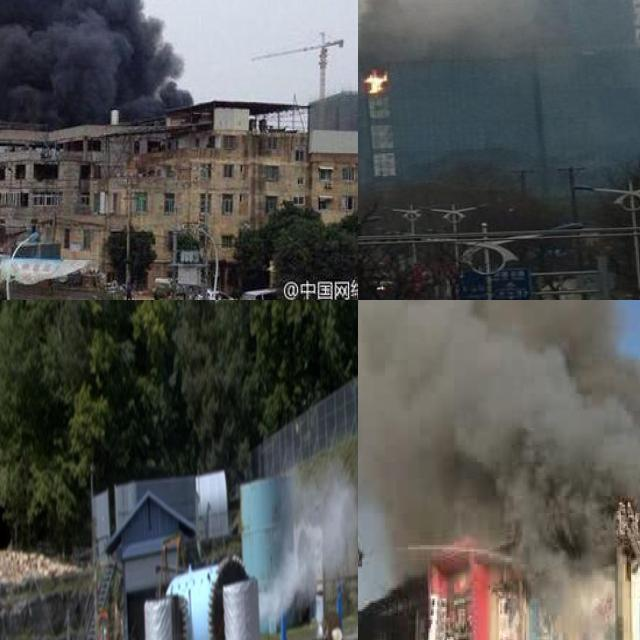fire: (362, 68, 388, 94)
smoke: (358, 300, 640, 573), (0, 0, 194, 157), (259, 462, 357, 619)
